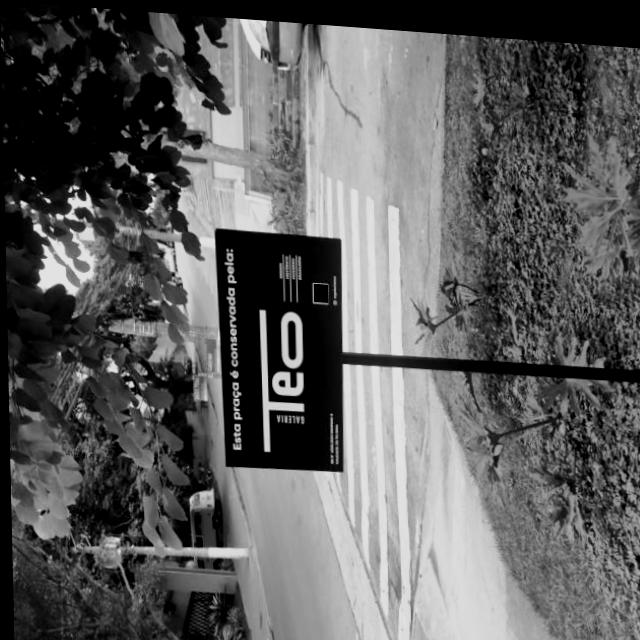qr_code: (313, 278, 327, 297)
